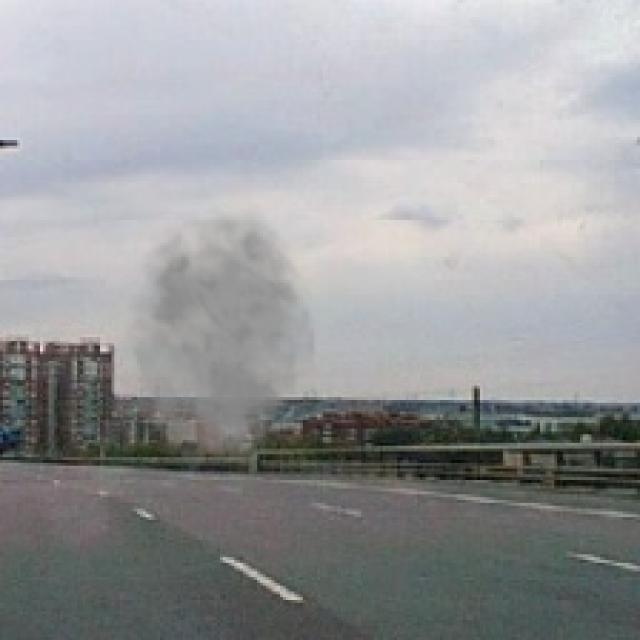Smoke: (109, 203, 318, 486)
